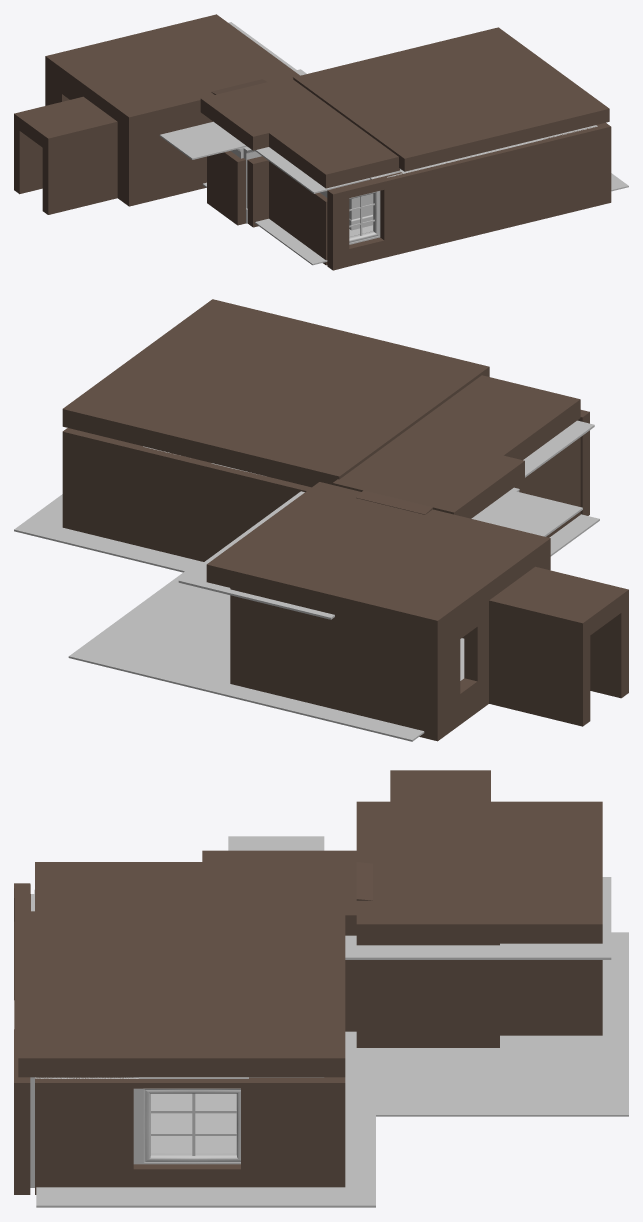
File: plmtest.fbx
3 renders of one model, top to bottom at view 1: azimuth 30°, elevation 25°; view 2: azimuth 150°, elevation 25°; view 3: azimuth 270°, elevation 25°, orthographic. The views are drawn at different scales.
Parts seen in each view (by area): view 1: Ceiling.003, Wall.012, Ceiling.001, Cube, Wall.005, Wall.020, Ceiling.004, Wall.009, Wall.008, Ceiling_2M.021, Wall.019, Wall.010 (+8 smaller); view 2: Ceiling.003, Ceiling.001, Wall.014, Cube, Wall.003, Wall.019, Ceiling.004, Wall.004, Hall_Floor_2M.029, Hall_Floor_2M.027, Ceiling_2M.021, Wall.020 (+13 smaller); view 3: Ceiling.003, Ceiling.001, Wall.013, Cube, Wall.000, Wall.001, Hall_Floor_2M.027, Hall_Floor_2M.029, Hall_Floor_2M.025, Office_Window_5M, Wall.012, Hall_Floor_2M.028 (+24 smaller).
Boxes of the visible parts, x1,y1,x2,y2 form: Ceiling.003: [293, 27, 609, 171]; Wall.012: [327, 122, 611, 270]; Ceiling.001: [45, 14, 299, 130]; Cube: [200, 76, 399, 188]; Wall.005: [123, 113, 212, 206]; Wall.020: [42, 135, 117, 214]; Ceiling.004: [14, 96, 117, 151]; Wall.009: [269, 161, 327, 265]; Wall.008: [207, 151, 245, 225]; Ceiling_2M.021: [159, 121, 246, 159]; Wall.019: [14, 127, 42, 194]; Wall.010: [247, 156, 268, 227]; Ceiling.003: [62, 299, 489, 487]; Ceiling.001: [206, 482, 550, 638]; Wall.014: [62, 428, 311, 561]; Cube: [332, 375, 580, 518]; Wall.003: [243, 591, 424, 737]; Wall.019: [489, 618, 590, 726]; Ceiling.004: [489, 566, 628, 640]; Wall.004: [424, 601, 488, 741]; Hall_Floor_2M.029: [68, 628, 193, 678]; Hall_Floor_2M.027: [108, 599, 230, 648]; Ceiling_2M.021: [471, 490, 582, 536]; Wall.020: [590, 607, 628, 698]; Ceiling.003: [18, 911, 345, 1077]; Ceiling.001: [356, 801, 602, 943]; Wall.013: [35, 1077, 328, 1194]; Cube: [35, 850, 372, 935]; Wall.000: [373, 943, 483, 1047]; Wall.001: [500, 960, 602, 1035]; Hall_Floor_2M.027: [459, 1069, 543, 1116]; Hall_Floor_2M.029: [544, 1069, 628, 1116]; Hall_Floor_2M.025: [374, 1069, 458, 1116]; Office_Window_5M: [139, 1077, 248, 1164]; Wall.012: [14, 883, 30, 1194]; Hall_Floor_2M.028: [544, 1023, 628, 1069].
Bounding box in the file's own units: 1898 × 366 × 1494.
